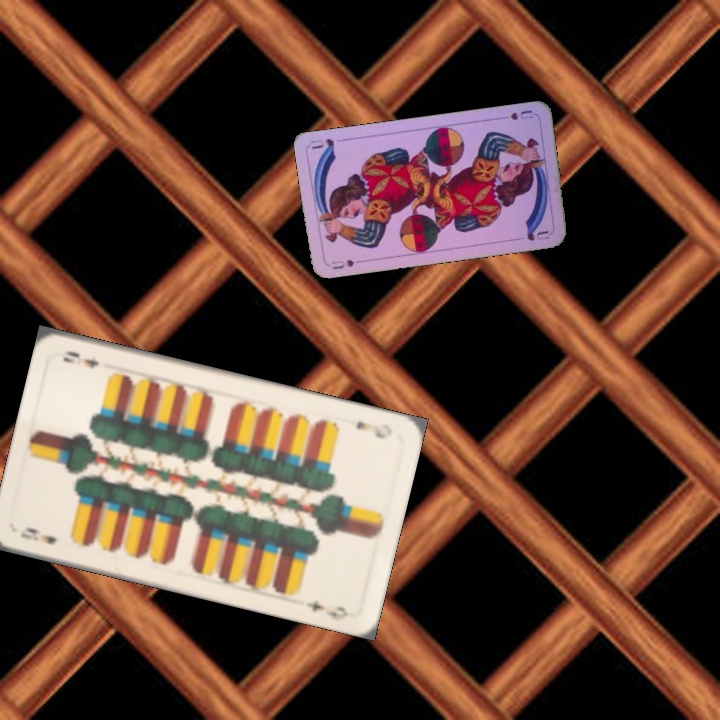E9: (352, 416, 395, 441), (17, 523, 60, 547)
SU: (324, 255, 365, 272), (495, 106, 535, 123)
